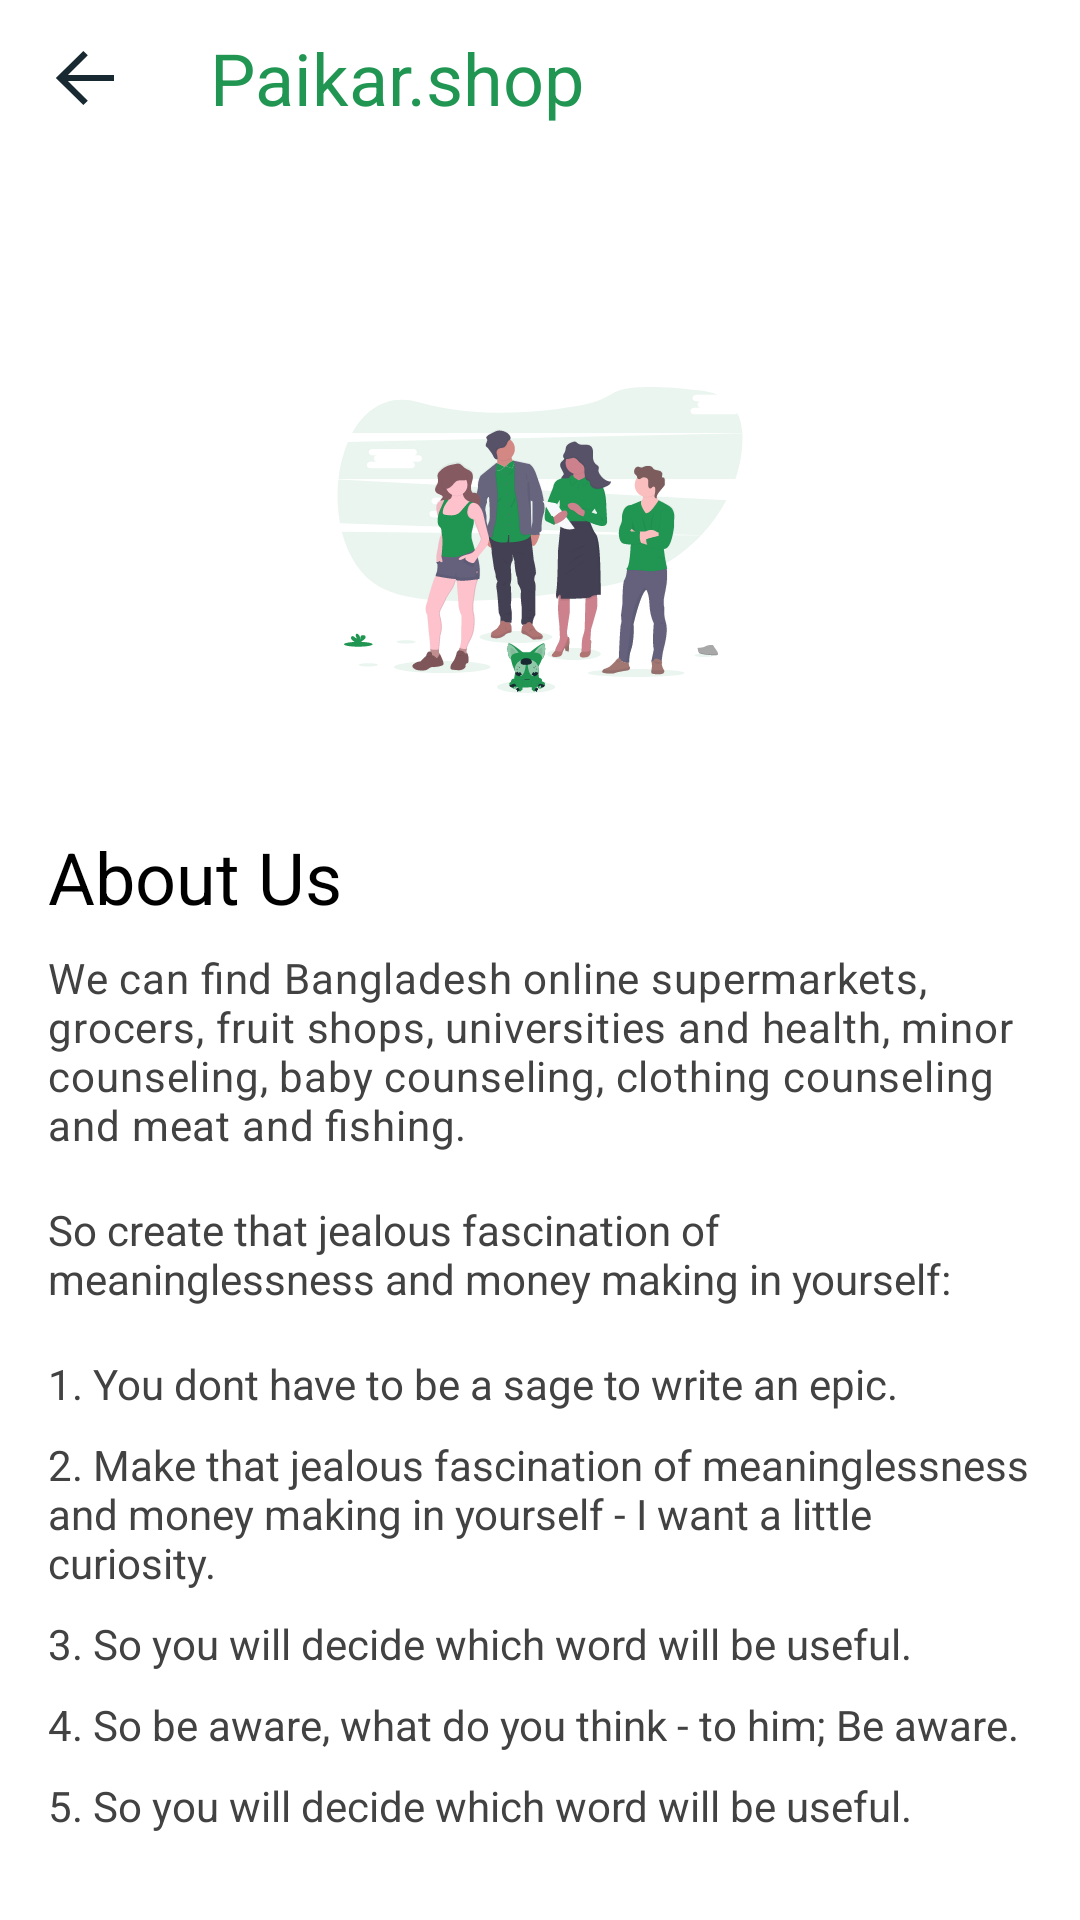

Icons on this 1080×1920 Android screen, each with its box as [x1, y1, x2, y2]:
arrow left: [56, 51, 114, 105]
